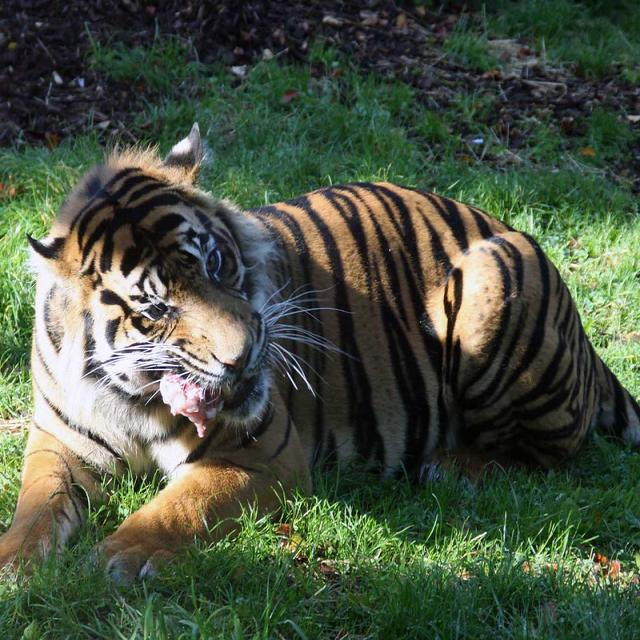Tiger: (15, 113, 617, 584)
